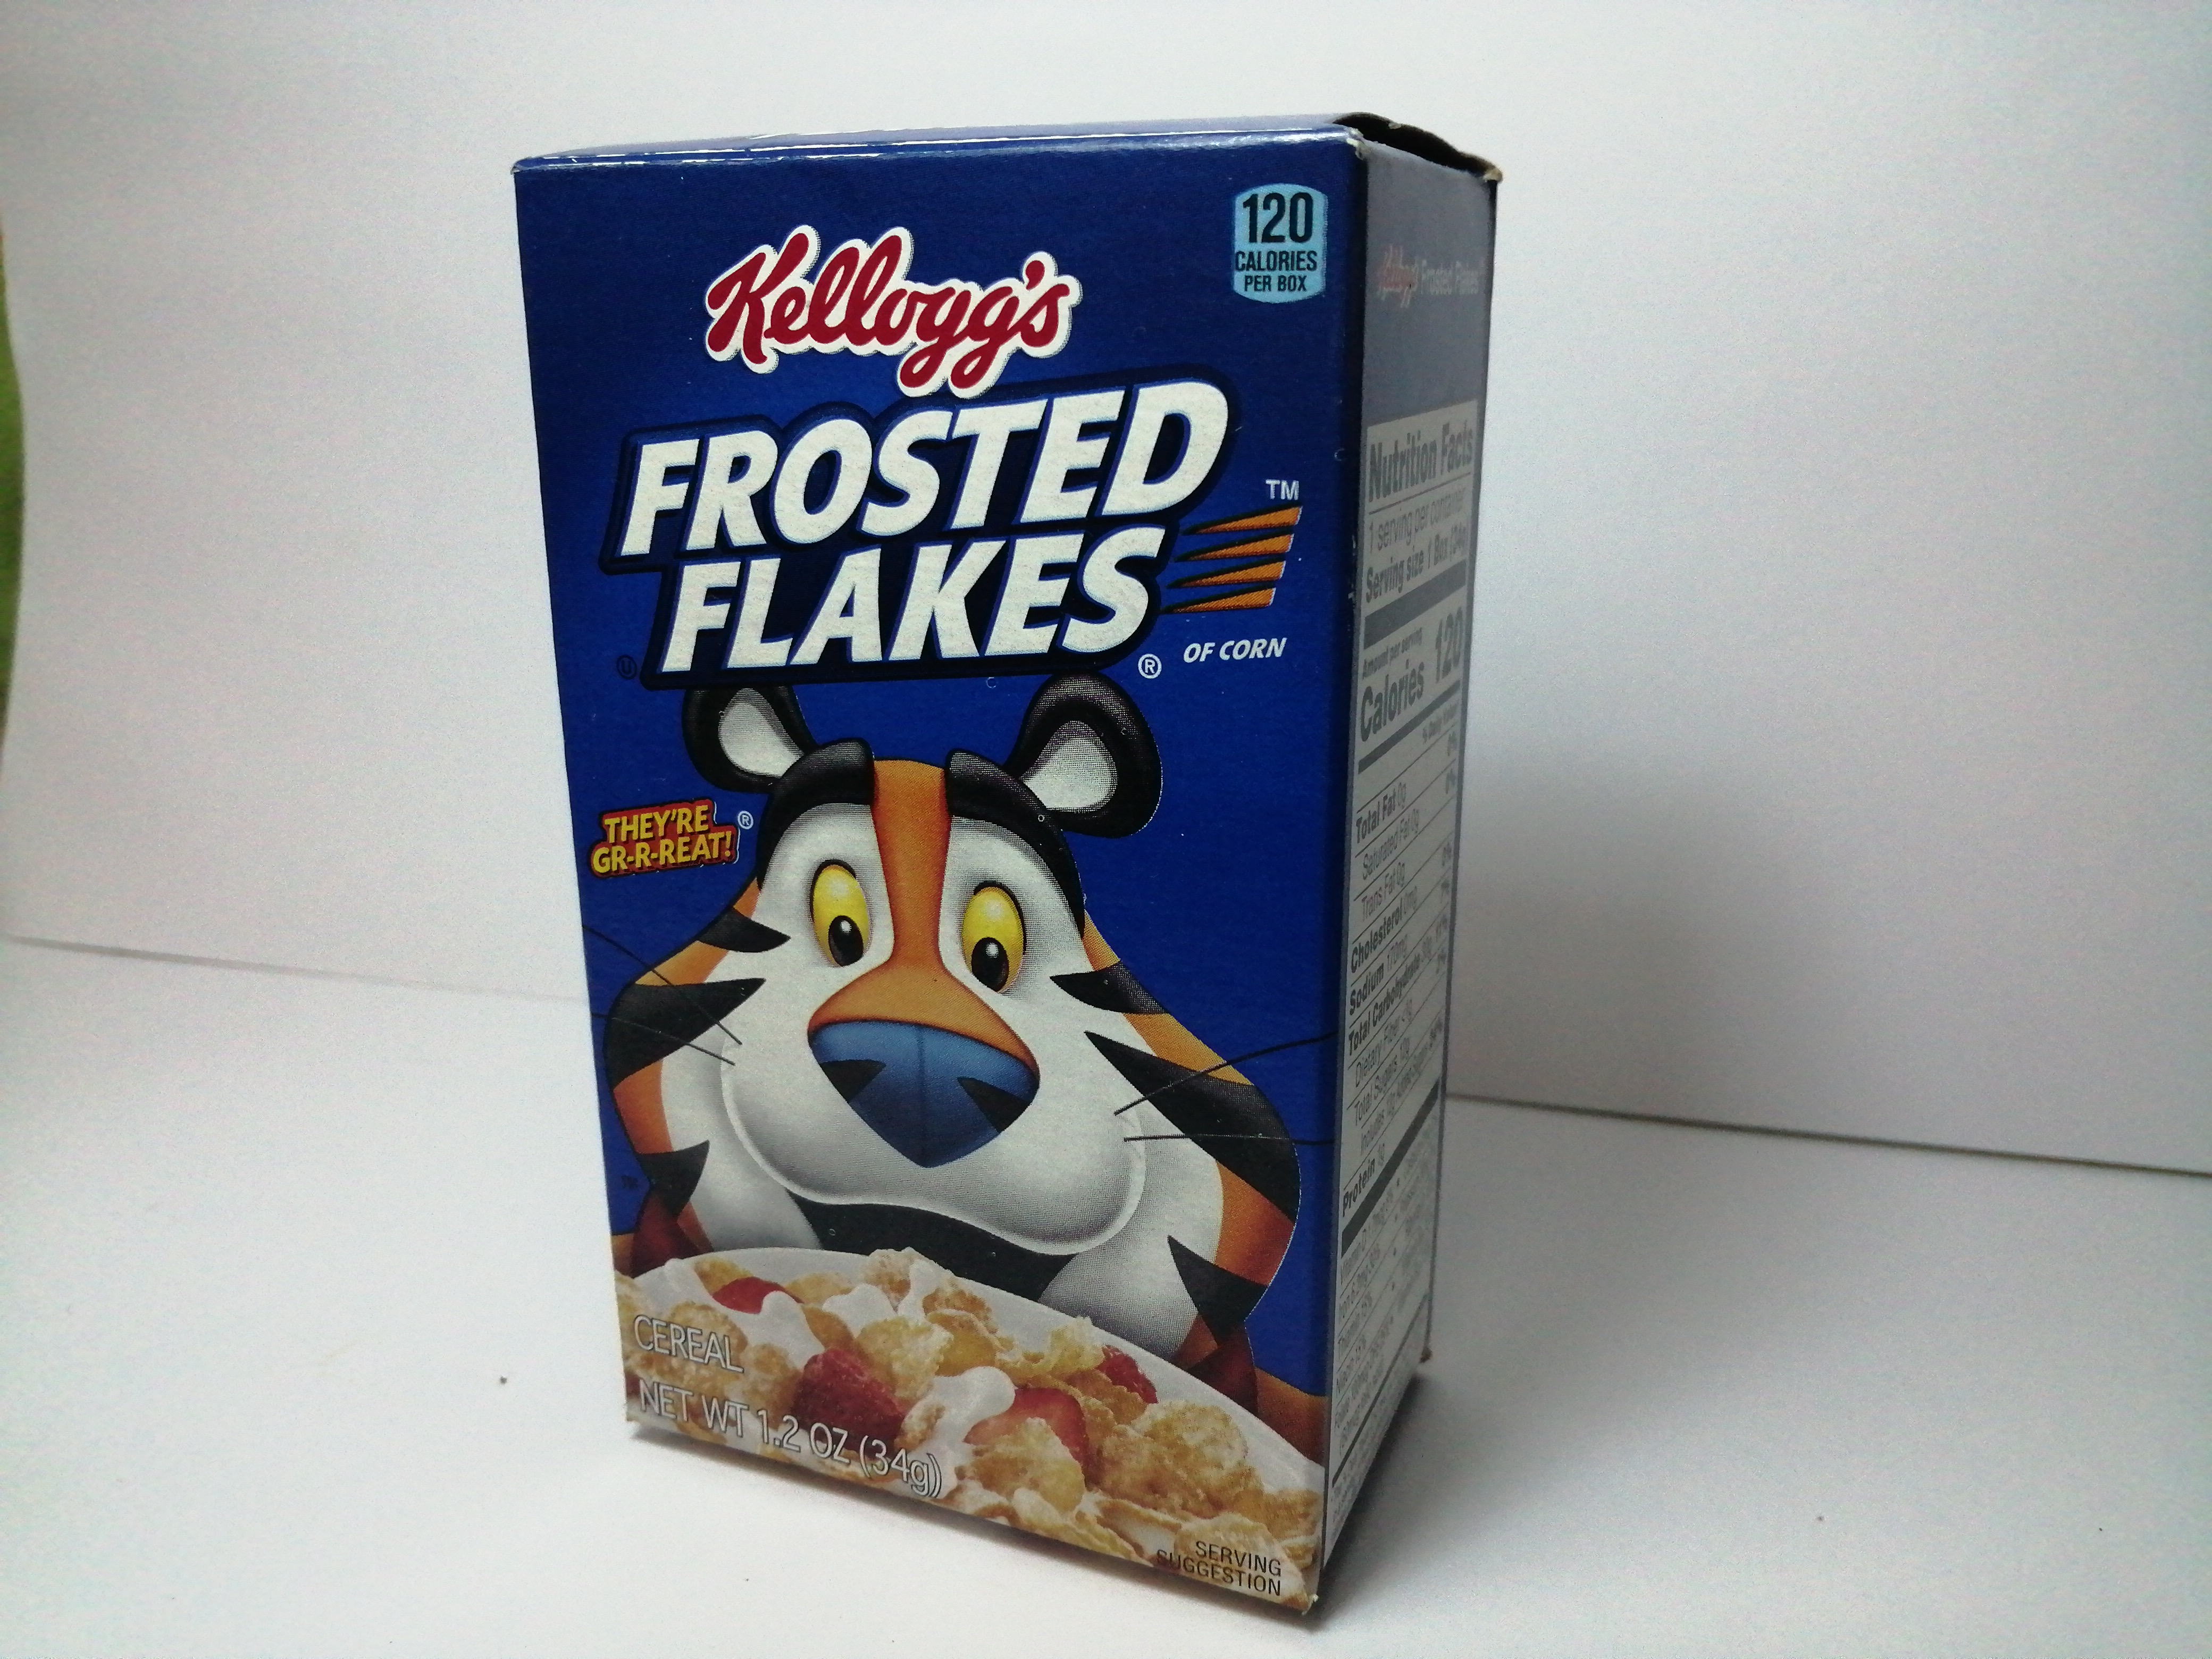cereal azucarado: (477, 94, 1543, 1619)
